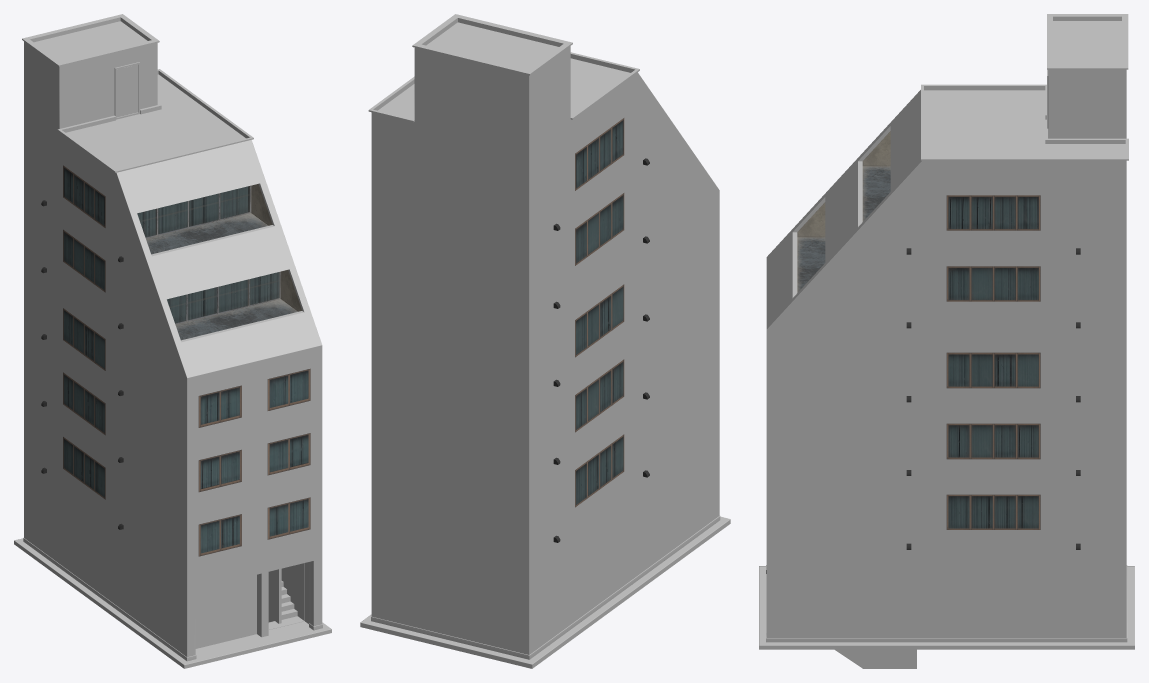
Rendered from BldA_low.fbx.
3 renders of one model, left to right at view 1: azimuth 30°, elevation 25°; view 2: azimuth 150°, elevation 25°; view 3: azimuth 270°, elevation 25°, orthographic. The views are drawn at different scales.
Parts seen in each view (by area): view 1: BldA_low; view 2: BldA_low; view 3: BldA_low.
Boxes of the visible parts, <box> form: BldA_low: <box>14,14,331,668</box>; BldA_low: <box>360,14,730,668</box>; BldA_low: <box>759,14,1134,668</box>.
Bounding box in the file's own units: 600 × 2103 × 1200.
